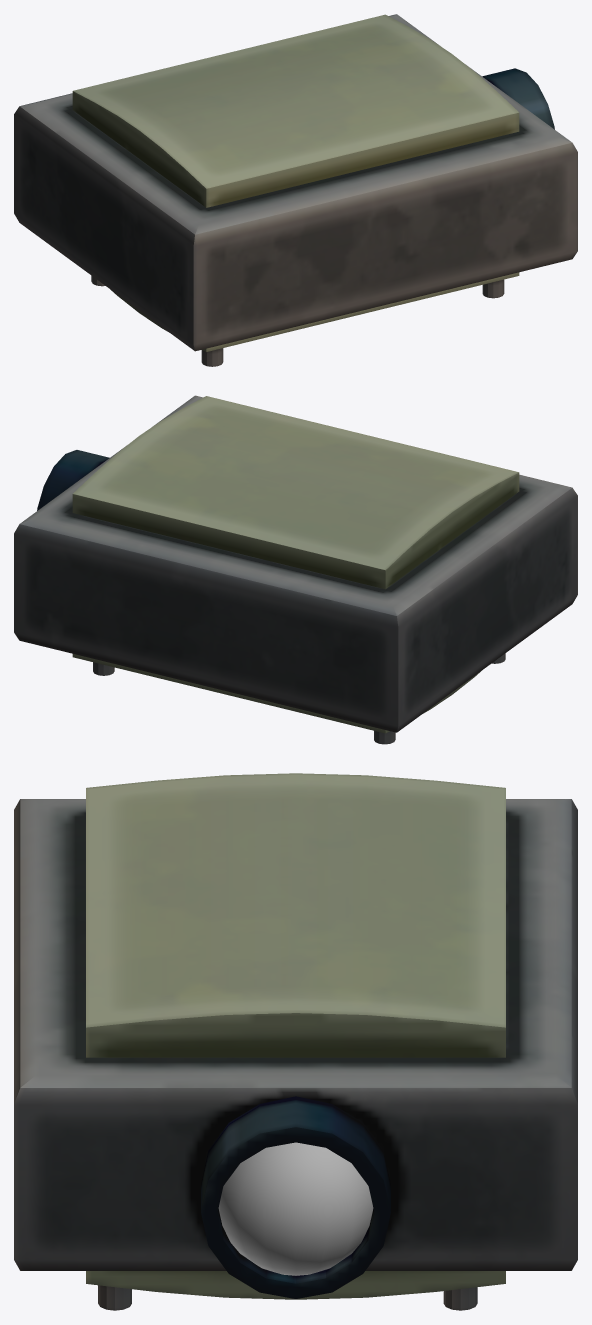
Rendered from Projector.fbx.
3 views of the same model, one above another, from view 1: azimuth 30°, elevation 25°; view 2: azimuth 150°, elevation 25°; view 3: azimuth 270°, elevation 25° (orthographic). The views are drawn at different scales.
Parts seen in each view (by area): view 1: pCylinder7; view 2: pCylinder7; view 3: pCylinder7, pSphere1.
Boxes of the visible parts, <box> form: pCylinder7: <box>14,14,577,366</box>; pCylinder7: <box>14,395,577,744</box>; pCylinder7: <box>14,773,577,1310</box>; pSphere1: <box>218,1142,373,1275</box>.
Size of the model in its own units: 51.52 by 21.46 by 36.18.
